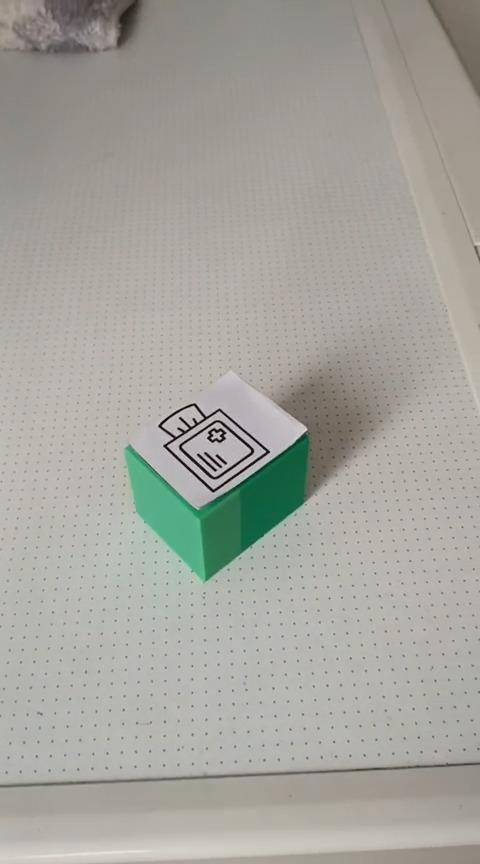Gauze: (123, 368, 310, 583)
